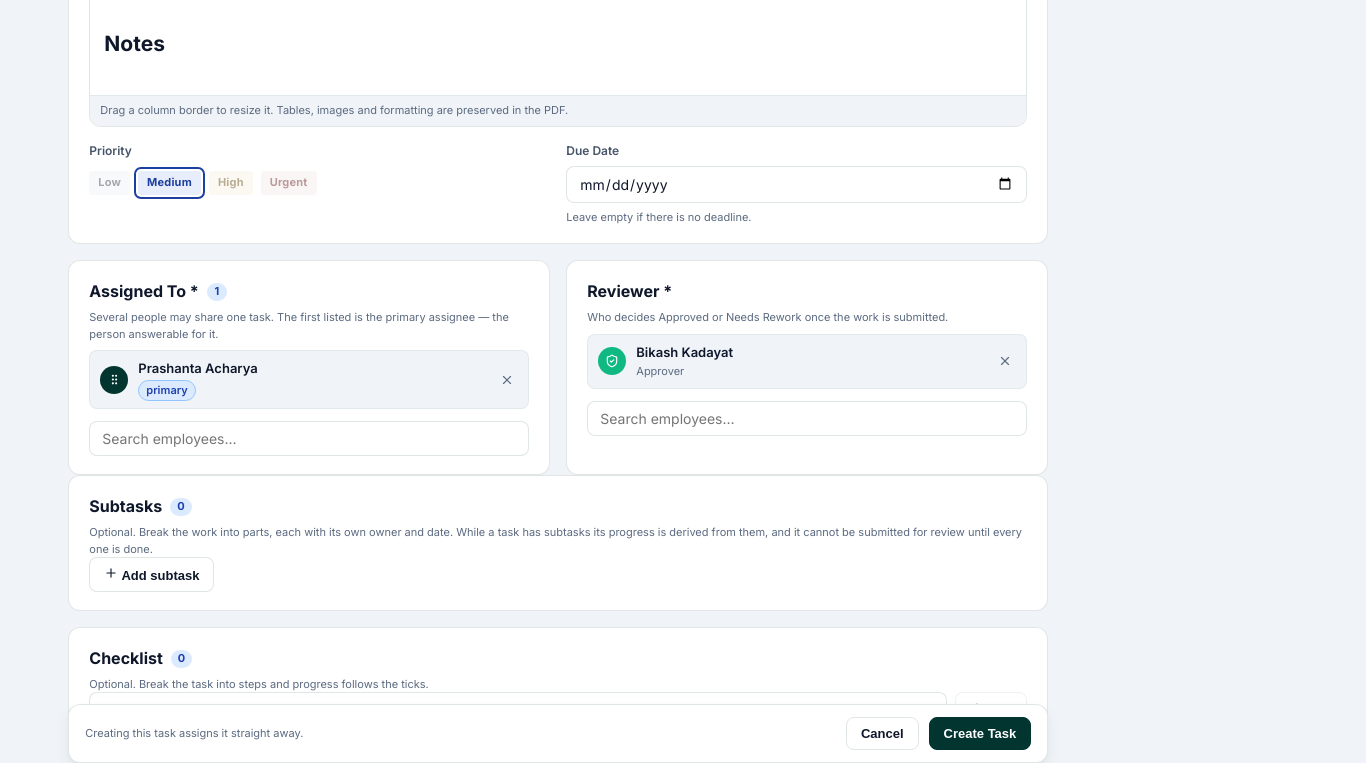
Test: raising a task › will not create a task once the assignee is taken off it
(page scrolled)
Expected: the field named "Search employees to assign" is shown, [89, 422, 529, 456]
Expected: the text "Prashanta Acharya" is shown, [138, 358, 258, 379]
Click the button named "Remove Prashanta Acharya": (507, 380) [496, 369, 518, 391]
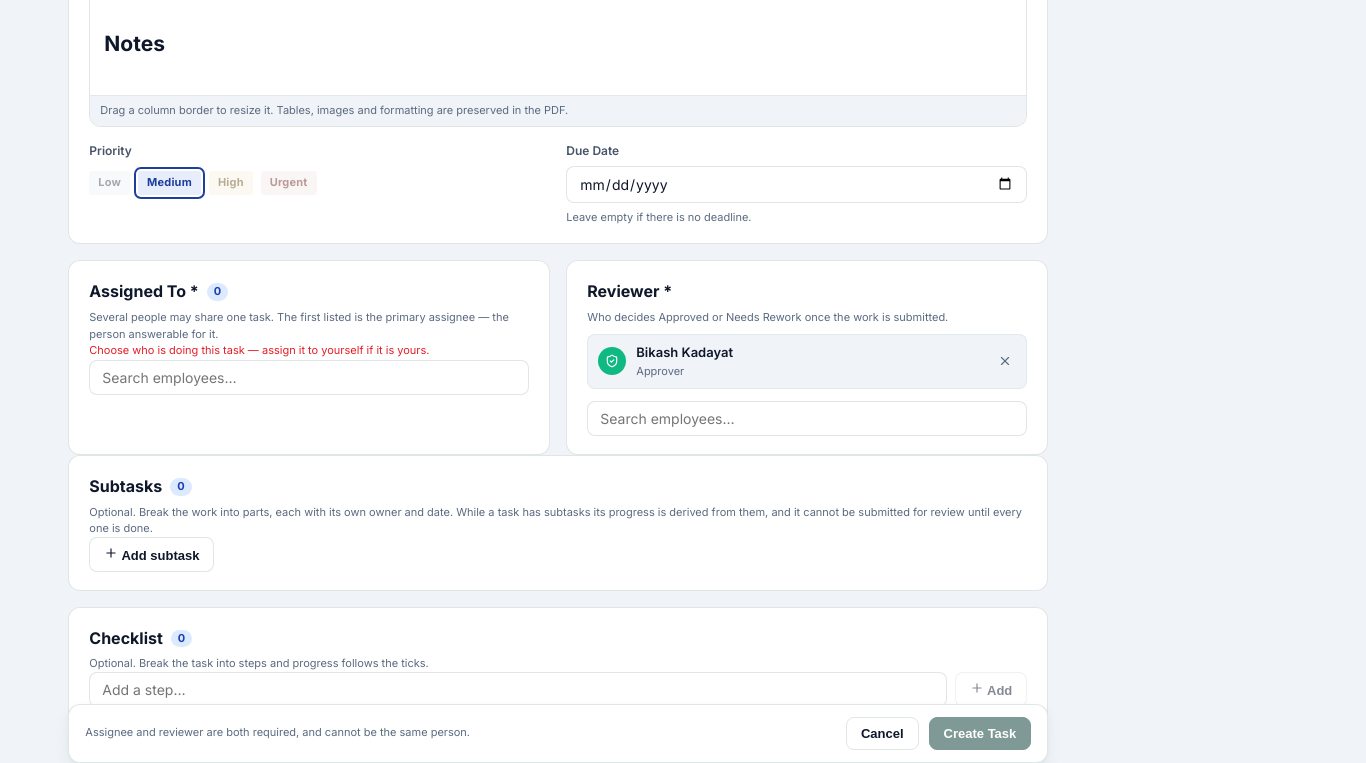
Expected: the button "Create Task" is disabled, [928, 717, 1031, 750]
Expected: the text "Choose who is doing this task" is shown, [89, 343, 430, 357]
